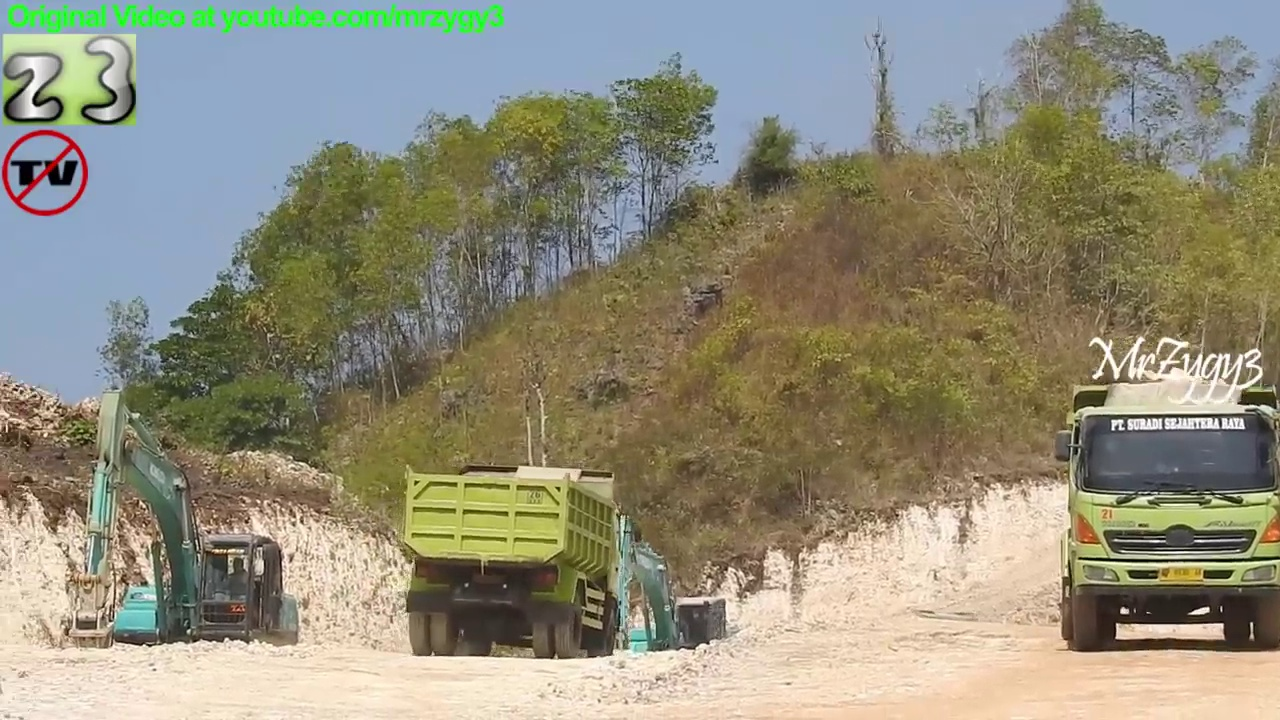excavator: (58, 383, 305, 692), (589, 503, 744, 686)
truck: (1048, 378, 1280, 659), (396, 458, 647, 665)
